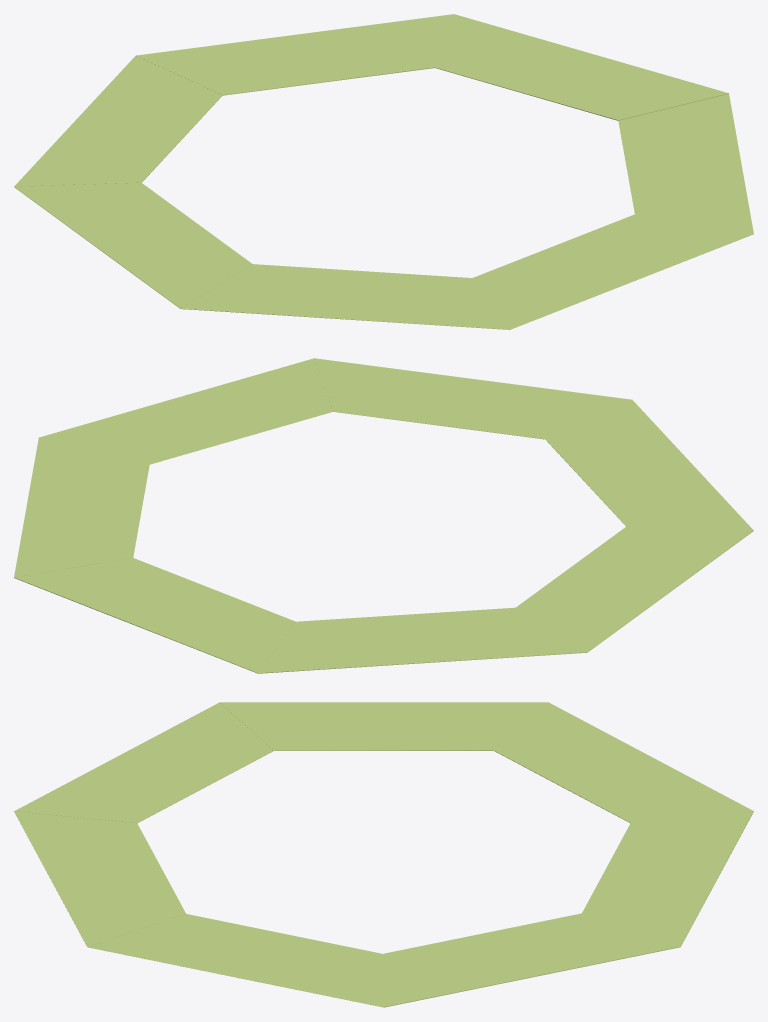
Rendered from Stairs.obj.
The picture shows the model from 3 angles, top to bottom: view 1: azimuth 30°, elevation 25°; view 2: azimuth 150°, elevation 25°; view 3: azimuth 270°, elevation 25°; orthographic projection.
Parts seen in each view (by area): view 1: Stairs; view 2: Stairs; view 3: Stairs.
Part boxes in pixels (x1,y1,x2,y2): Stairs: [14, 14, 753, 329]; Stairs: [14, 358, 753, 673]; Stairs: [14, 702, 753, 1007].
Size of the model in its own units: 11.41 by 0.01 by 11.7.
